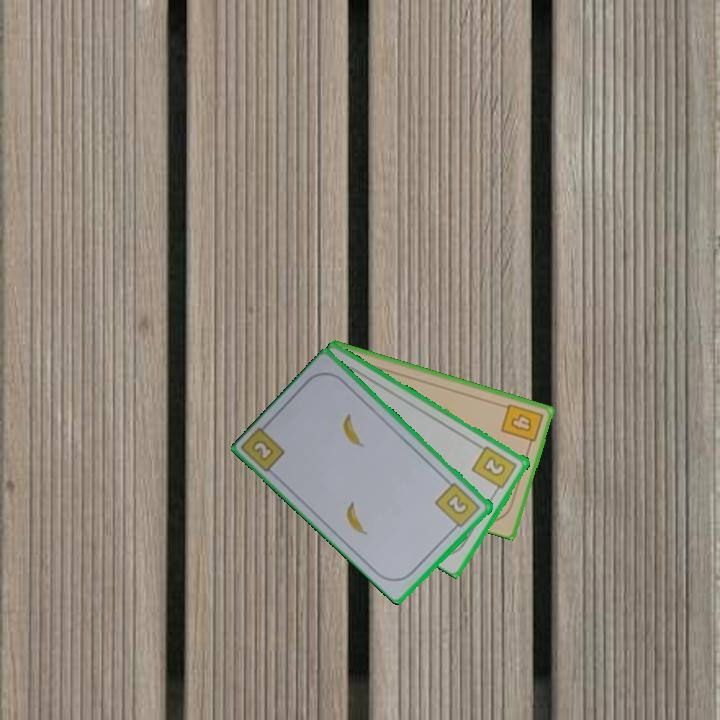2b: (469, 442, 520, 496), (432, 479, 483, 533), (250, 439, 274, 462)
4b: (497, 400, 546, 450)
